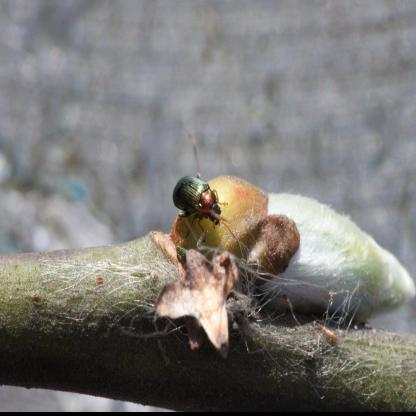beetle: (166, 166, 225, 232)
